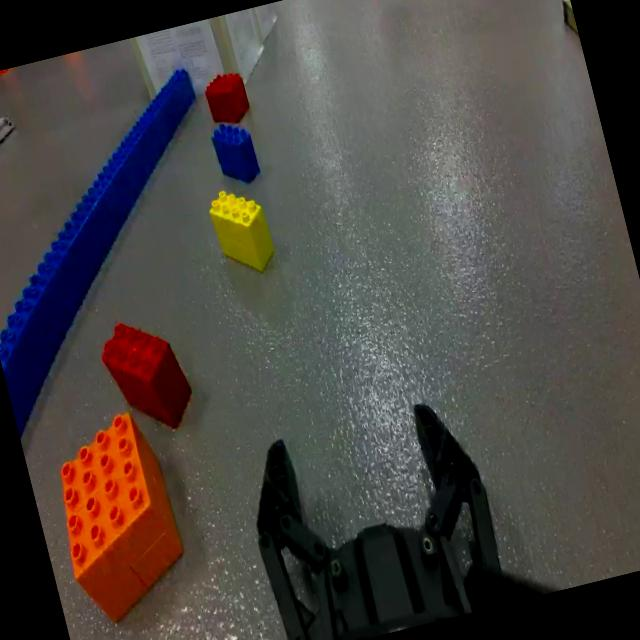block: (201, 178, 281, 282)
blue: (202, 112, 264, 190)
orange: (37, 404, 197, 638)
red goal: (92, 303, 202, 444), (197, 64, 258, 128)
river: (0, 66, 196, 438)
